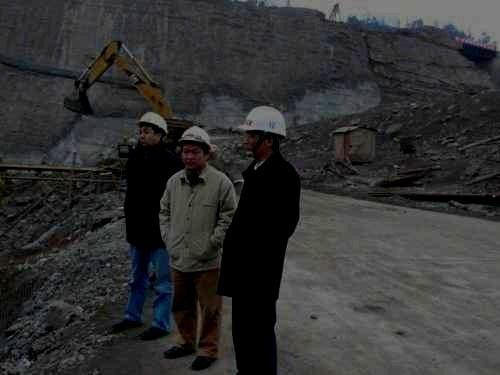helmet: (237, 105, 287, 157), (176, 125, 212, 168), (135, 111, 168, 148)
